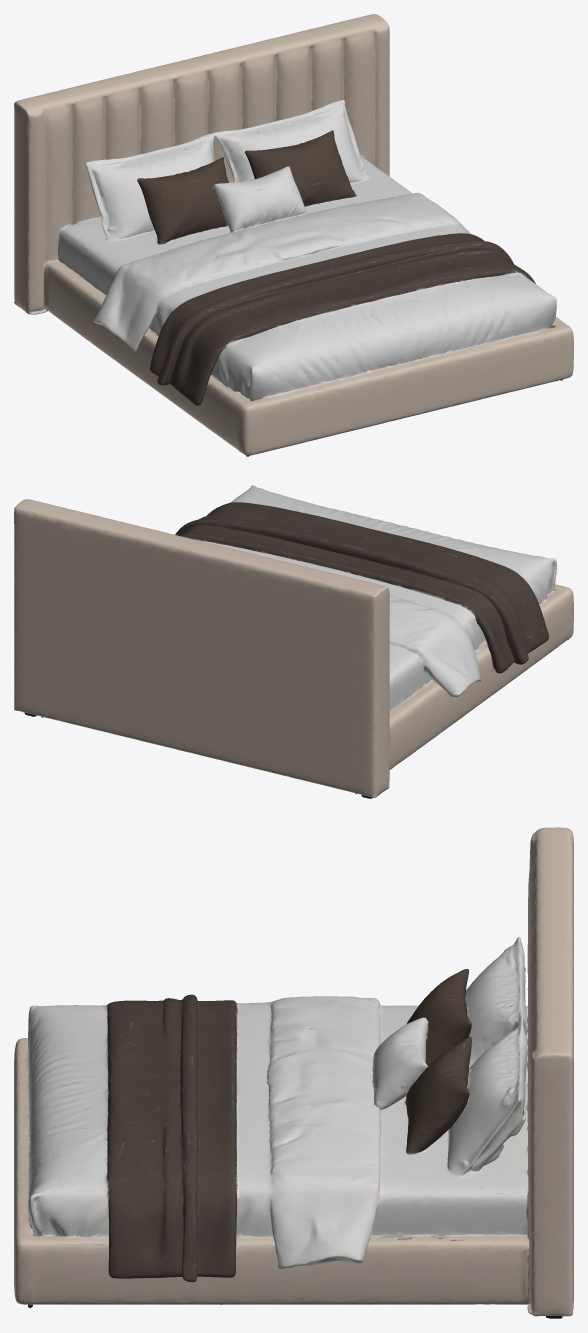
File: Lu9LLHMhkKM6RXfERYPjW_FAyVXuP.glb
The picture shows the model from 3 angles, top to bottom: view 1: azimuth 30°, elevation 25°; view 2: azimuth 150°, elevation 25°; view 3: azimuth 270°, elevation 25°; orthographic projection. The views are drawn at different scales.
Parts seen in each view (by area): view 1: world; view 2: world; view 3: world.
Boxes of the visible parts, <box> form: world: <box>14,14,573,456</box>; world: <box>14,485,573,798</box>; world: <box>14,827,573,1318</box>.
Bounding box in the file's own units: 0.9846 × 0.5345 × 1.
1 material, 1 textured.
